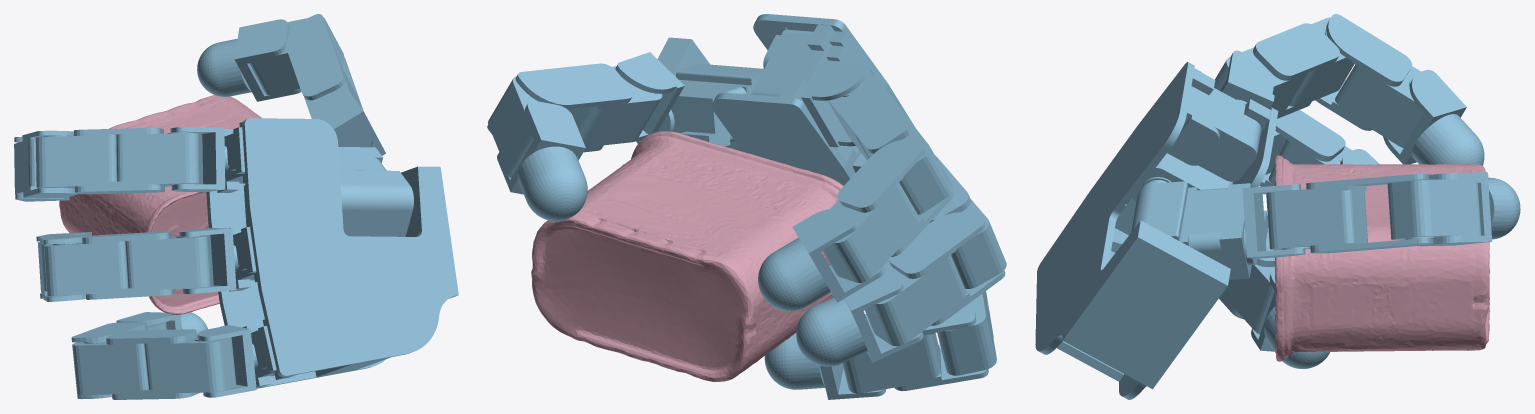
3 renders of one model, left to right at view 1: azimuth 30°, elevation 25°; view 2: azimuth 150°, elevation 25°; view 3: azimuth 270°, elevation 25°, orthographic. The views are drawn at different scales.
Parts seen in each view (by area): view 1: world; view 2: world; view 3: world.
Boxes of the visible parts, x1,y1,x2,y2 form: world: (14,14,458,399); world: (487,14,1006,399); world: (1035,14,1520,399).
Size of the model in its own units: 0.1867 by 0.1349 by 0.1878.
